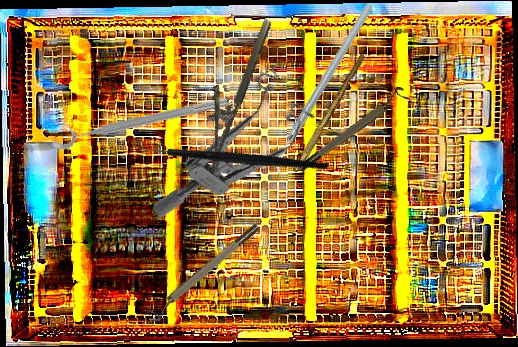Chopper: (224, 1, 423, 180), (134, 88, 330, 235)
Fixation Ring: (46, 81, 232, 153), (142, 221, 266, 326), (293, 84, 411, 174)
Needle Holder: (185, 10, 275, 175)
Scalpel Handle: (292, 52, 367, 175)
Speculum: (149, 52, 327, 259)
